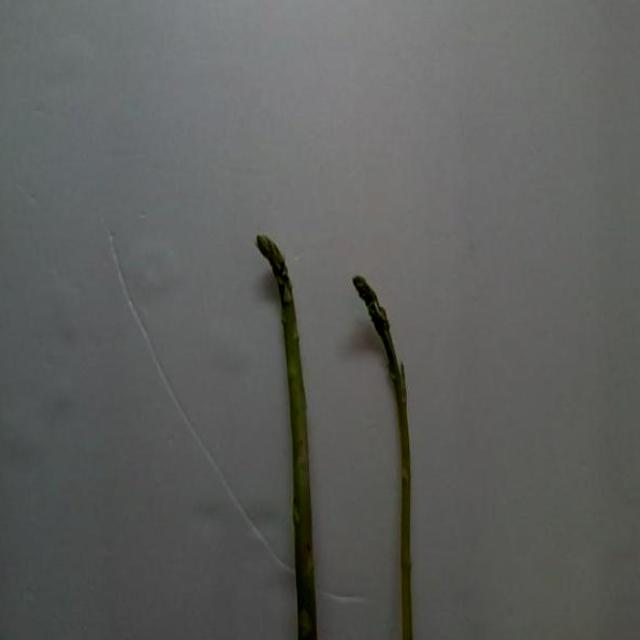aspargus: (257, 237, 318, 640), (351, 276, 415, 640)
